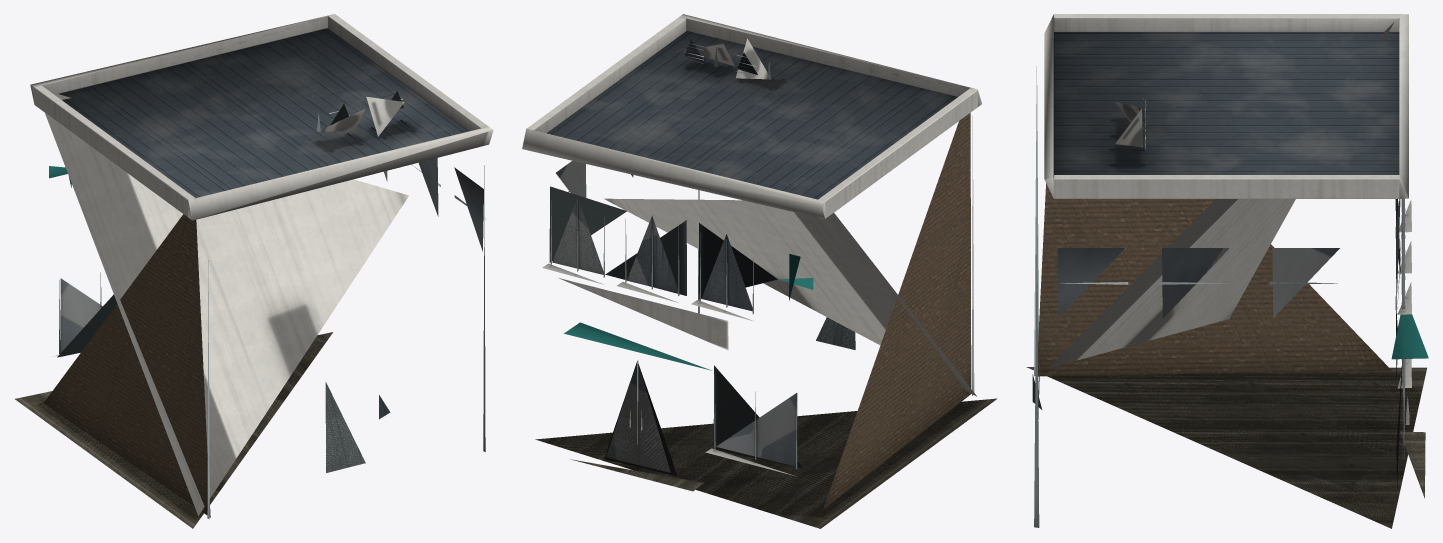
Rendered from public_001.lod2.obj.
The picture shows the model from 3 angles, left to right: view 1: azimuth 30°, elevation 25°; view 2: azimuth 150°, elevation 25°; view 3: azimuth 270°, elevation 25°; orthographic projection. The views are drawn at different scales.
Visible parts, largest first — view 1: public_001; view 2: public_001; view 3: public_001.
Boxes of the visible parts, x1=… form: public_001: x1=15, y1=14, x2=493, y2=528; public_001: x1=522, y1=14, x2=997, y2=528; public_001: x1=1026, y1=14, x2=1428, y2=528.
Bounding box in the file's own units: 6.5 × 6.85 × 6.54.
Materials: 1 (1 with a texture image).
